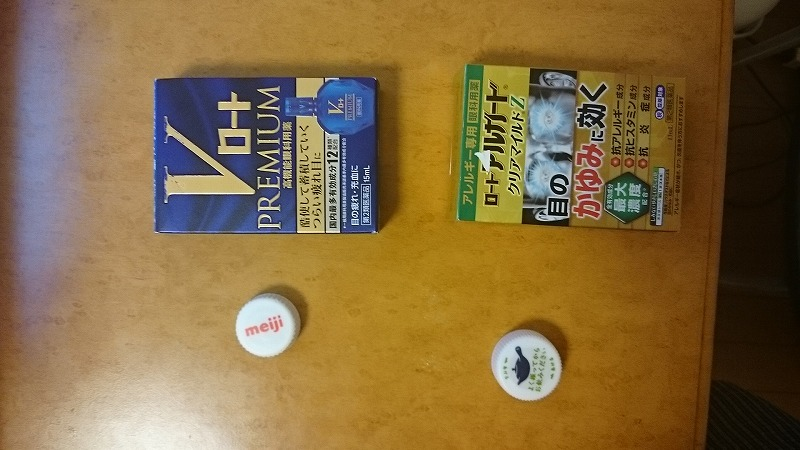A: (490, 326, 569, 405)
B: (224, 289, 319, 366)
C: (444, 57, 688, 239)
D: (142, 64, 385, 240)
